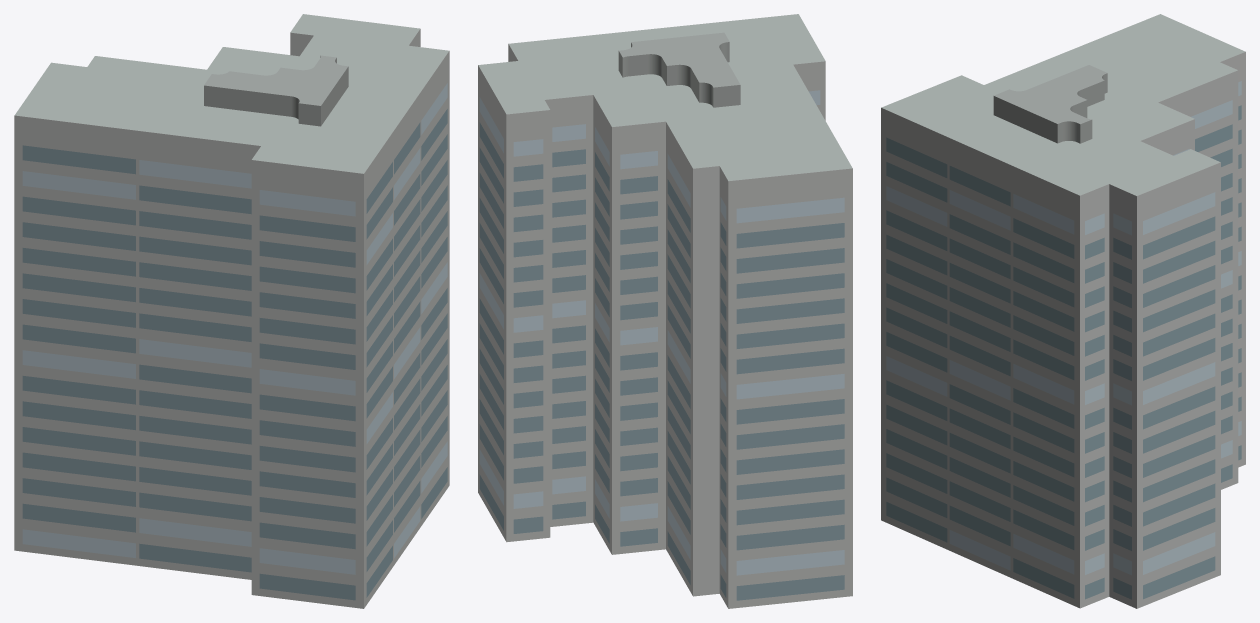
File: fallback-mapo-grang-xi-103.glb
3 renders of one model, left to right at view 1: azimuth 30°, elevation 25°; view 2: azimuth 150°, elevation 25°; view 3: azimuth 270°, elevation 25°, orthographic. The views are drawn at different scales.
Parts seen in each view (by area): view 1: fallback-mapo-grang-xi-103; view 2: fallback-mapo-grang-xi-103; view 3: fallback-mapo-grang-xi-103.
Part boxes in pixels (left/top/right/bottom): fallback-mapo-grang-xi-103: left=14, top=14, right=449, bottom=608; fallback-mapo-grang-xi-103: left=478, top=14, right=852, bottom=608; fallback-mapo-grang-xi-103: left=881, top=14, right=1245, bottom=608.
Size of the model in its own units: 44.3 by 49 by 37.47.
